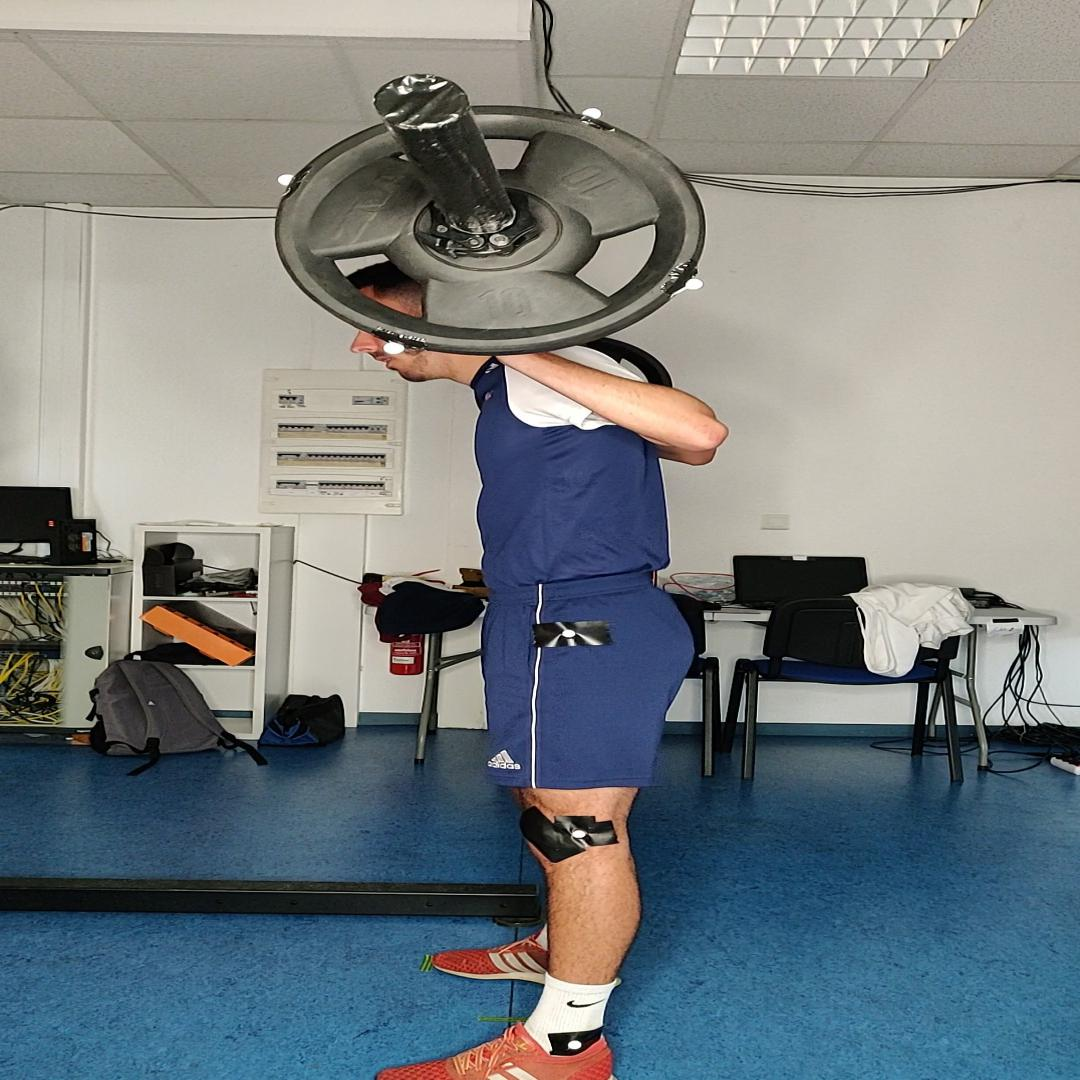Bar: (373, 74, 470, 130)
Barbell: (276, 106, 707, 356)
